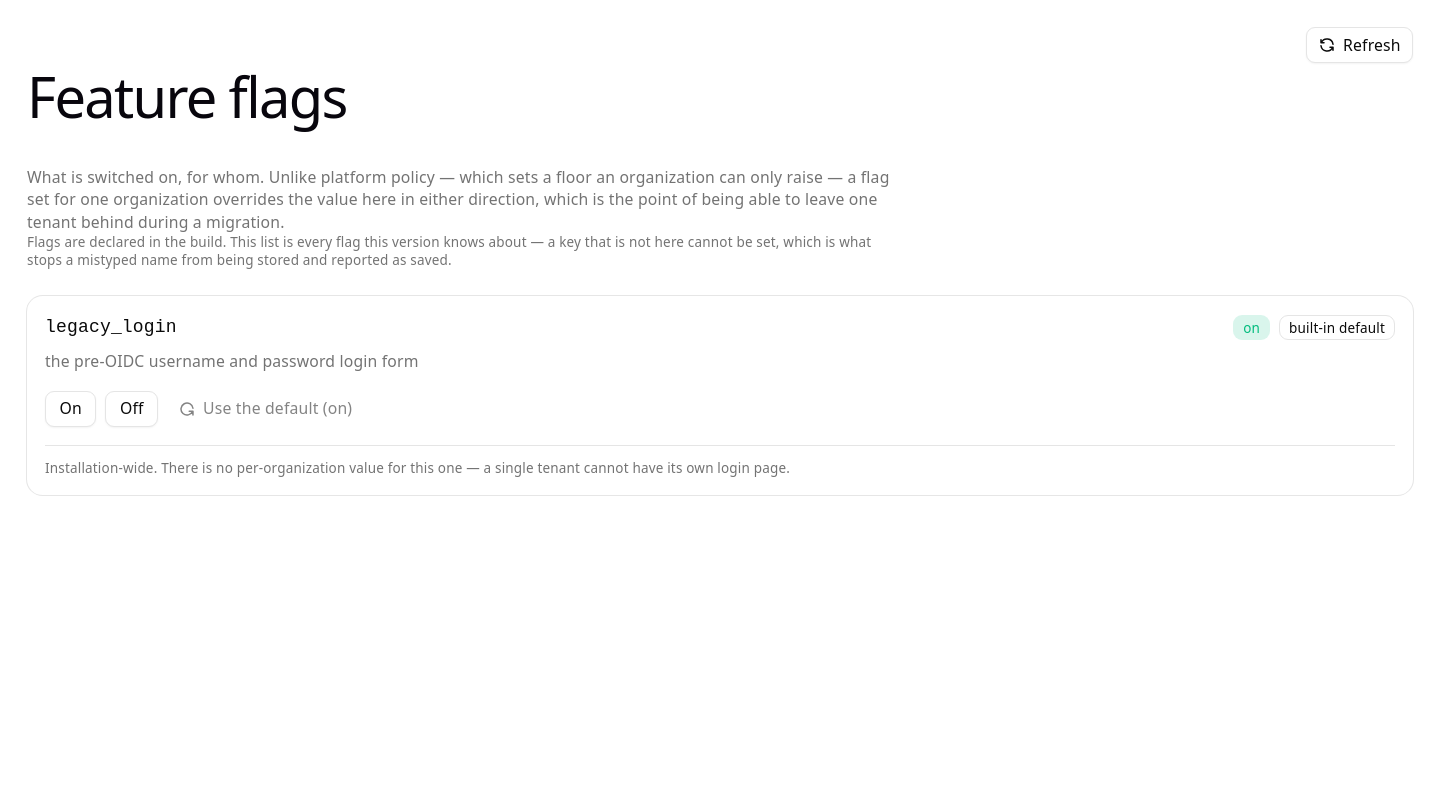
Scenario: FeatureFlags › offers a way through when removing the last sign-in method is refused
The image size is (1440, 810).
Expected: the text "legacy_login" is shown, [45, 314, 177, 341]
Click the button "Off": click(132, 409) [105, 391, 158, 427]
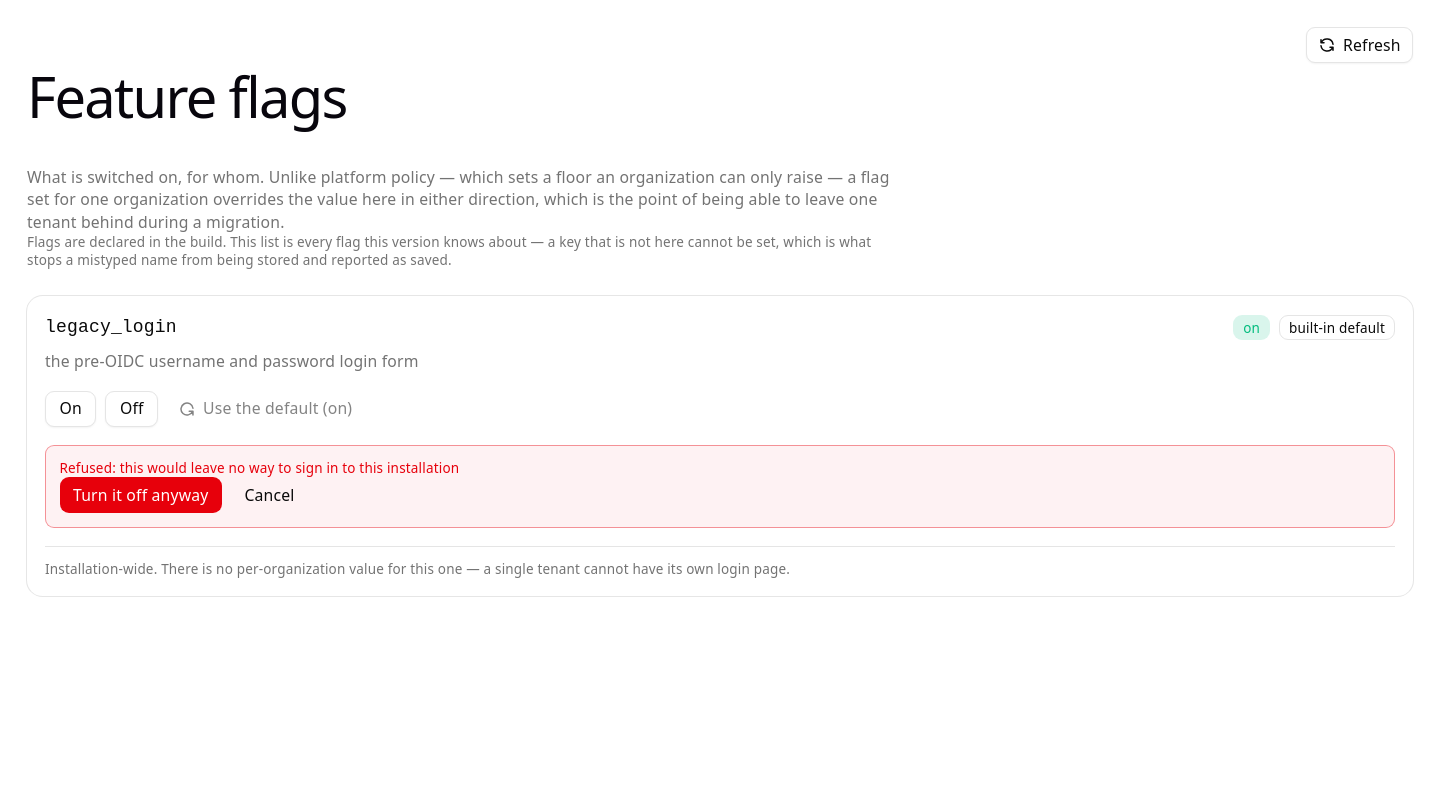
Expected: the text "no way to sign in" is shown, [120, 459, 459, 477]
Expected: the button "Turn it off anyway" is shown, [60, 477, 222, 513]
